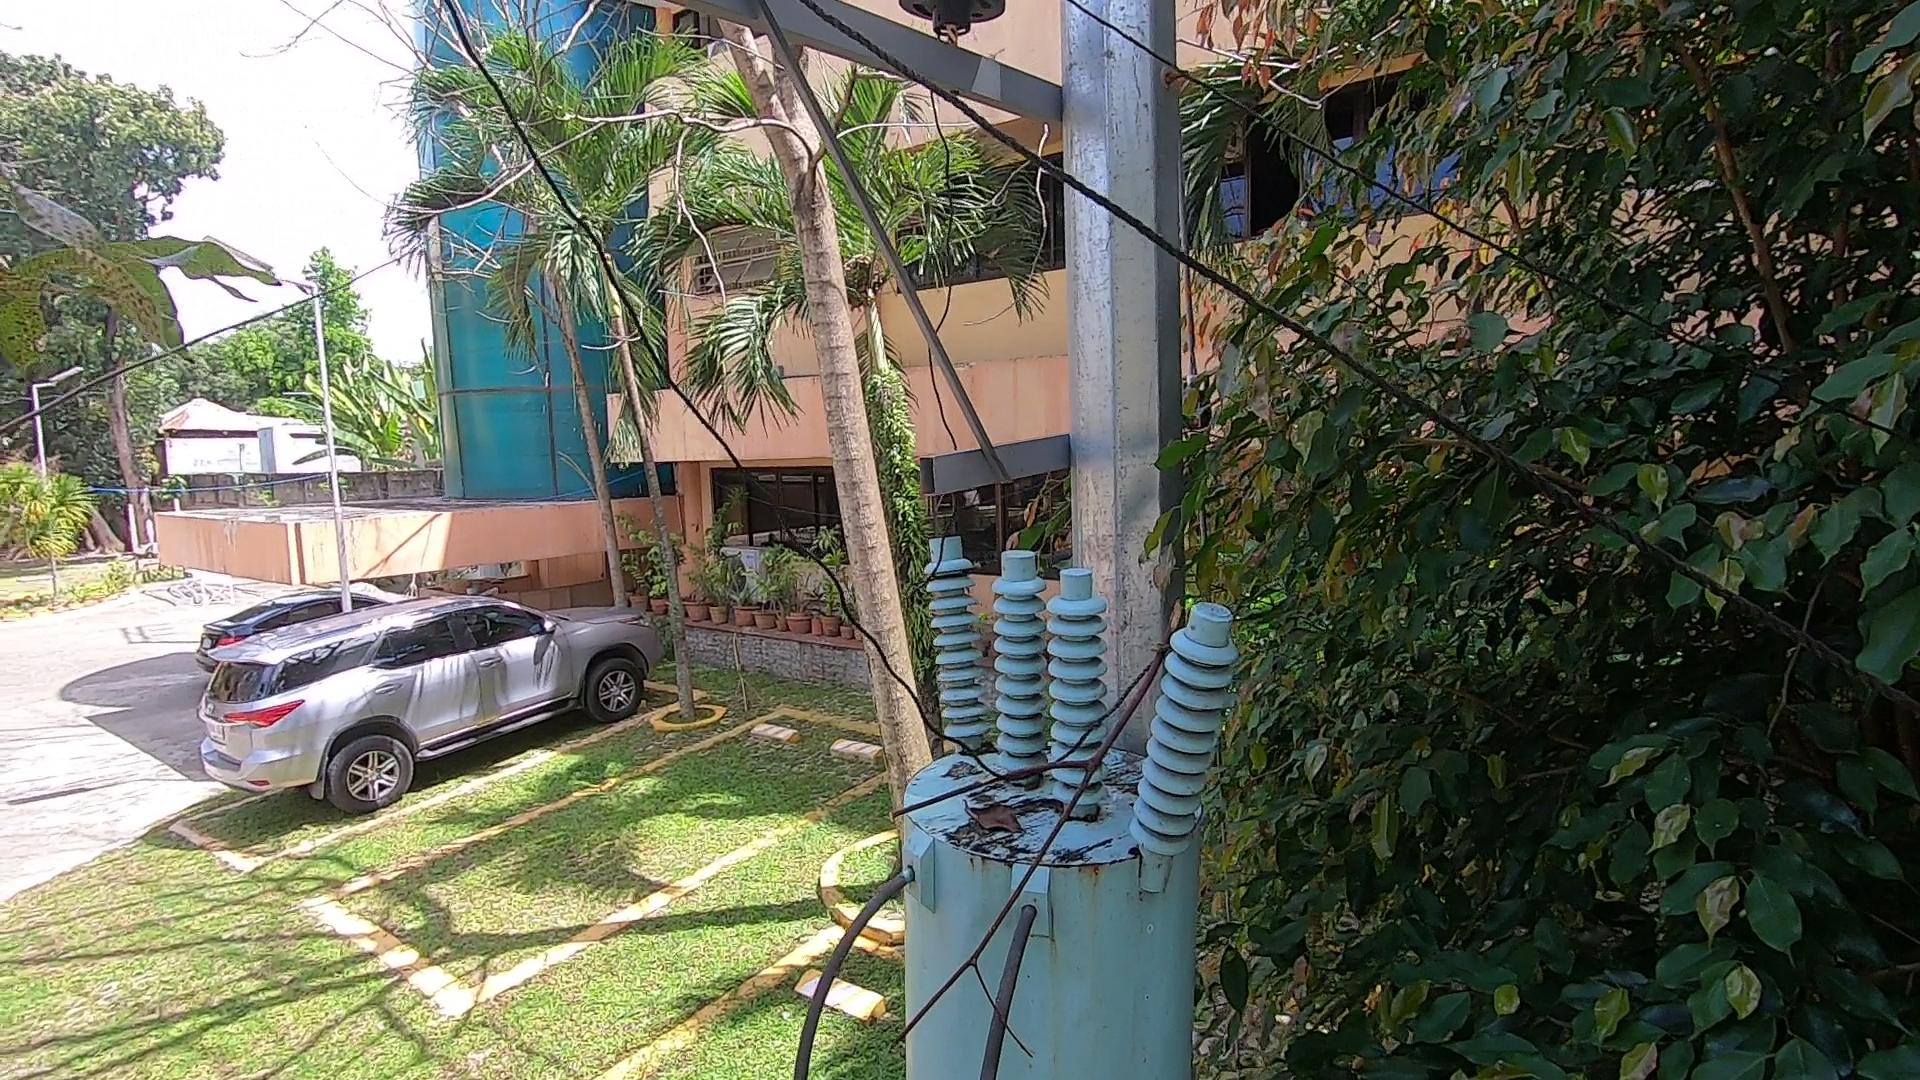leaf: (951, 785, 1040, 848)
tree branch: (831, 575, 1185, 1068)
